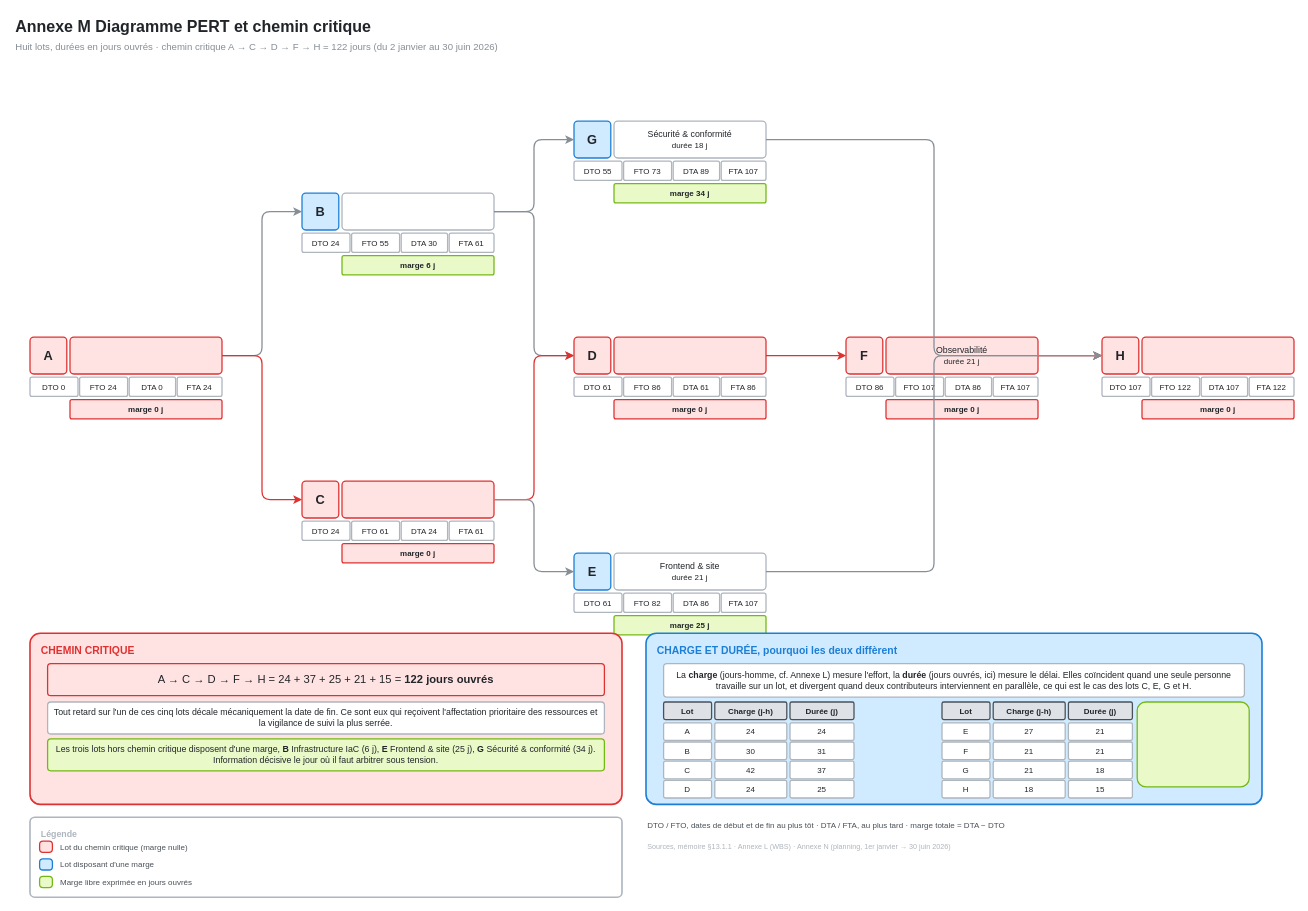
Image size: 1308x911. Some labels were removed from this diagram. Each missing label, with the centre of its shape:
"Backend API durée 37 j" goes at pixel 417 499.
"Cadrage & conception durée 24 j" goes at pixel 145 355.
"Chaîne CI/CD durée 25 j" goes at pixel 689 355.
"Documentation & soutenance durée 15 j" goes at pixel 1217 355.
"Infrastructure IaC durée 31 j" goes at pixel 417 211.
"Total 207 j-h Durée 122 j ouvrés" goes at pixel 1192 744.
